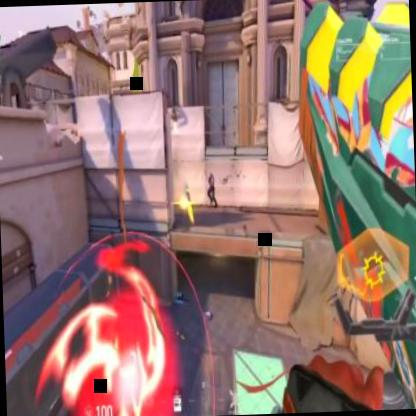enemy: (206, 172, 217, 209)
enemy_head: (210, 173, 214, 178)
